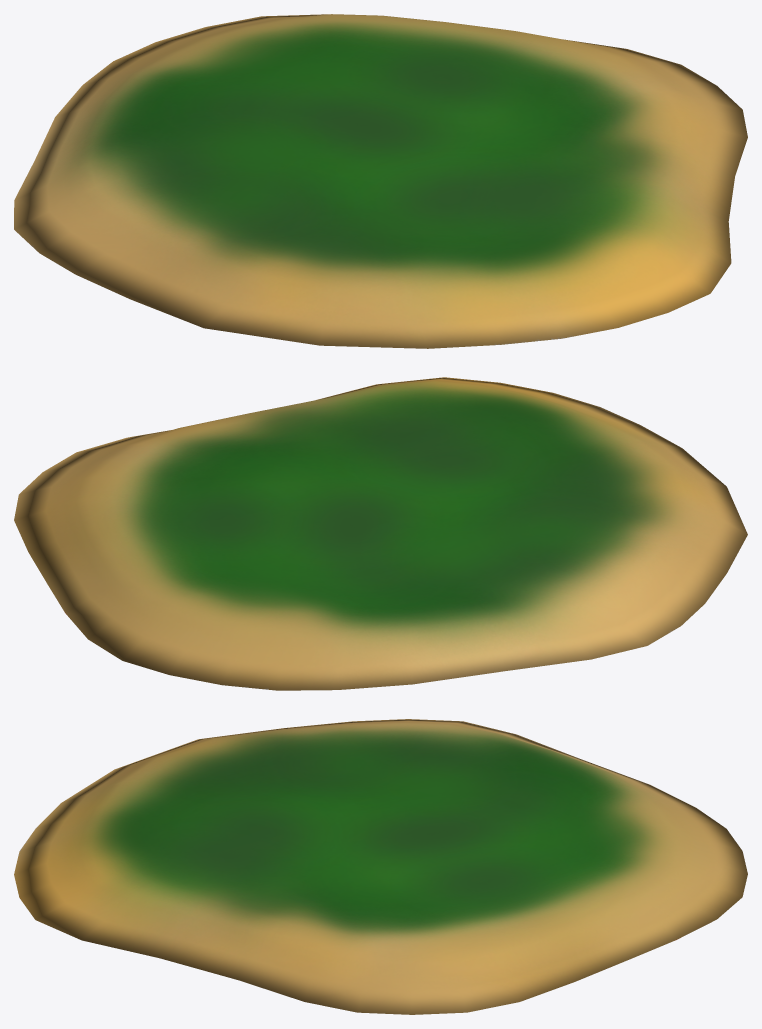
File: Island_00.fbx
The picture shows the model from 3 angles, top to bottom: view 1: azimuth 30°, elevation 25°; view 2: azimuth 150°, elevation 25°; view 3: azimuth 270°, elevation 25°; orthographic projection. The views are drawn at different scales.
Parts seen in each view (by area): view 1: Circle; view 2: Circle; view 3: Circle.
Part boxes in pixels (x1,y1,x2,y2): Circle: (14,14,747,348); Circle: (14,377,747,690); Circle: (14,719,747,1014).
Bounding box in the file's own units: 2383 × 113 × 2273.
